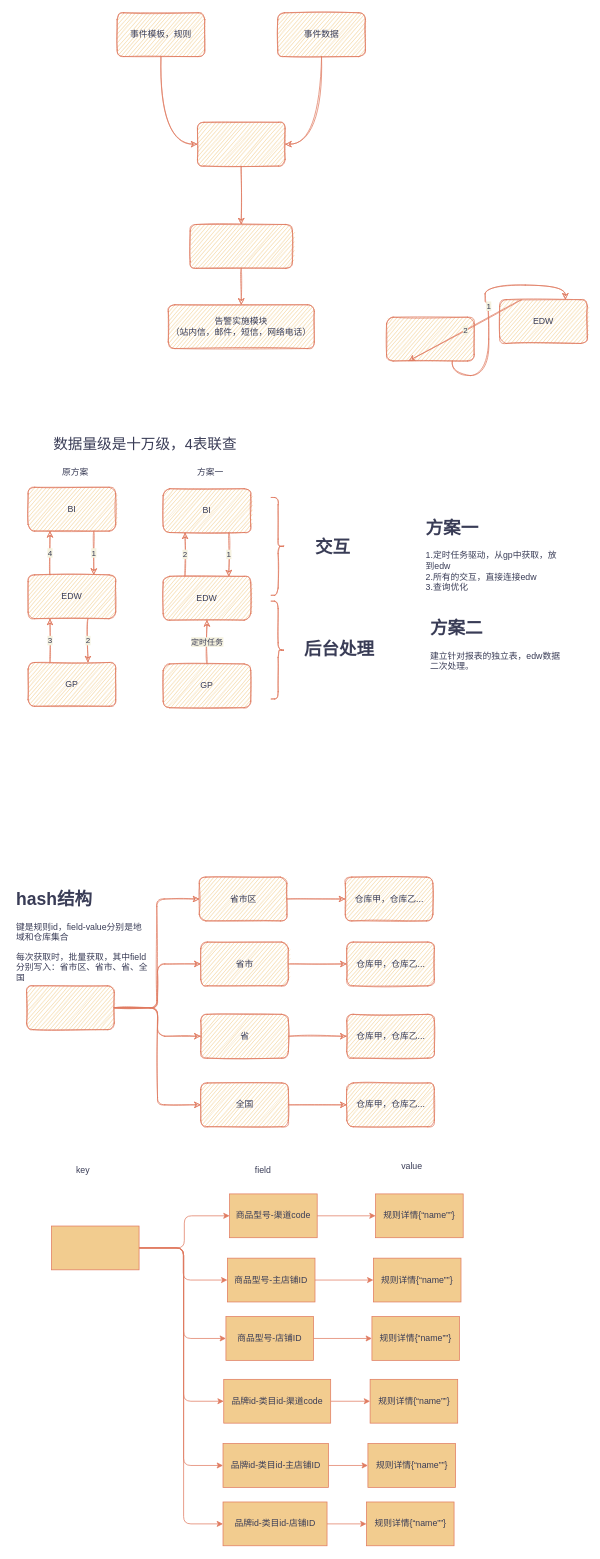
The diagram is 600 pixels wide and 1559 high, and some of its shapes have lost their labels. Each missing label, with the centre of its shape:
告警数据 （告警对象，告警内容）: the point at 240,246
寻源规则-适用公司id: the point at 95,1247
规则1: the point at 70,1007
规则引擎: the point at 241,144
